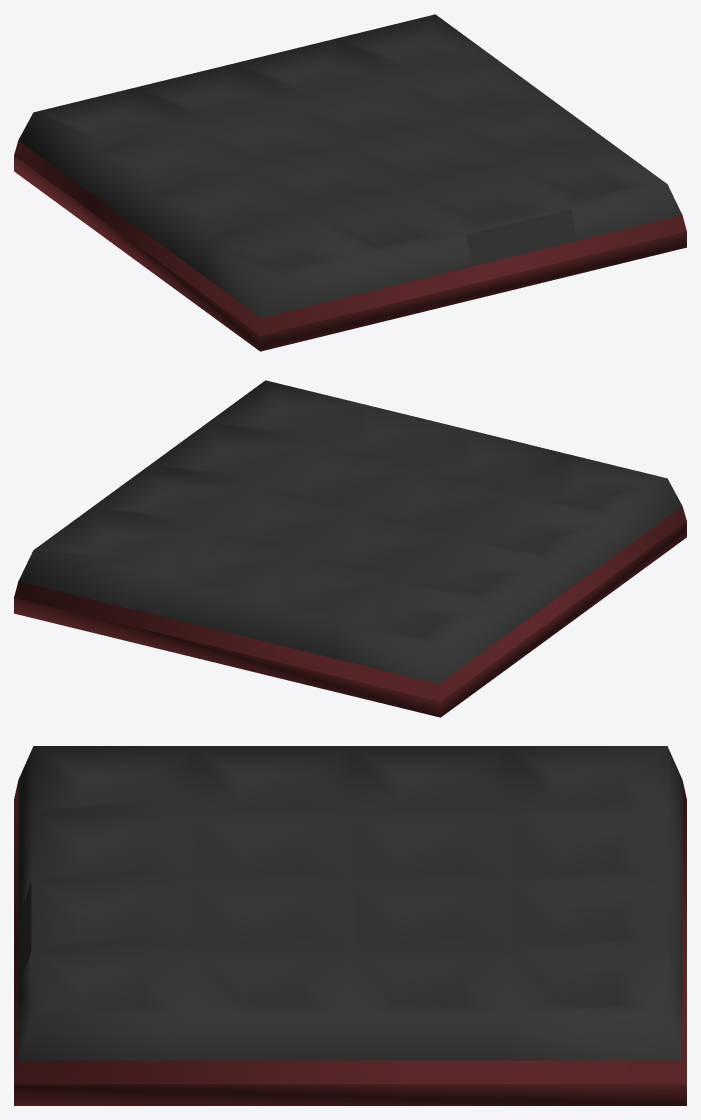
The model's file is SpikesBase.fbx.
3 renders of one model, top to bottom at view 1: azimuth 30°, elevation 25°; view 2: azimuth 150°, elevation 25°; view 3: azimuth 270°, elevation 25°, orthographic. The views are drawn at different scales.
Visible parts, largest first — view 1: Spikes.001; view 2: Spikes.001; view 3: Spikes.001.
Part boxes in pixels (x1,y1,x2,y2): Spikes.001: (14, 14, 686, 351); Spikes.001: (14, 380, 686, 717); Spikes.001: (14, 746, 686, 1105).
Bounding box in the file's own units: 421 × 57.67 × 421.
